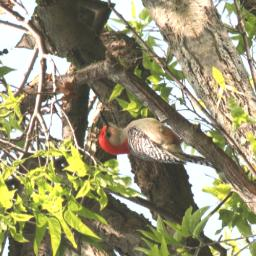Woodpecker: (82, 79, 220, 209)
